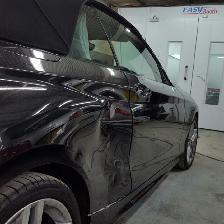dent: (1, 21, 207, 209)
